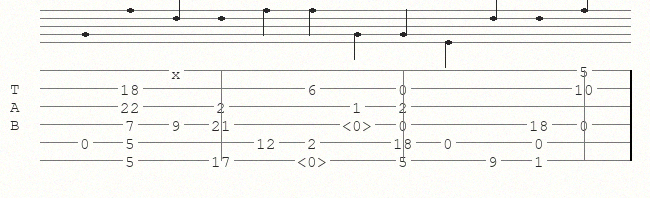0: (80, 135, 94, 149), (398, 81, 412, 95), (398, 117, 412, 131), (443, 135, 457, 149), (534, 135, 548, 149), (579, 117, 593, 131)
1: (352, 99, 366, 113), (534, 153, 548, 167)
10: (574, 81, 598, 95)
12: (256, 135, 280, 149)
17: (211, 153, 235, 167)
18: (120, 81, 144, 95), (393, 135, 417, 149), (529, 117, 553, 131)
2: (216, 99, 230, 113), (307, 135, 321, 149), (398, 99, 412, 113)
21: (211, 117, 235, 131)
22: (120, 99, 144, 113)
5: (125, 135, 139, 149), (125, 153, 139, 167), (398, 153, 412, 167), (579, 63, 593, 77)
6: (307, 81, 321, 95)
7: (125, 117, 139, 131)
9: (171, 117, 185, 131), (488, 153, 502, 167)
harmonic: (297, 153, 331, 168), (342, 117, 376, 132)
x: (171, 65, 185, 76)
